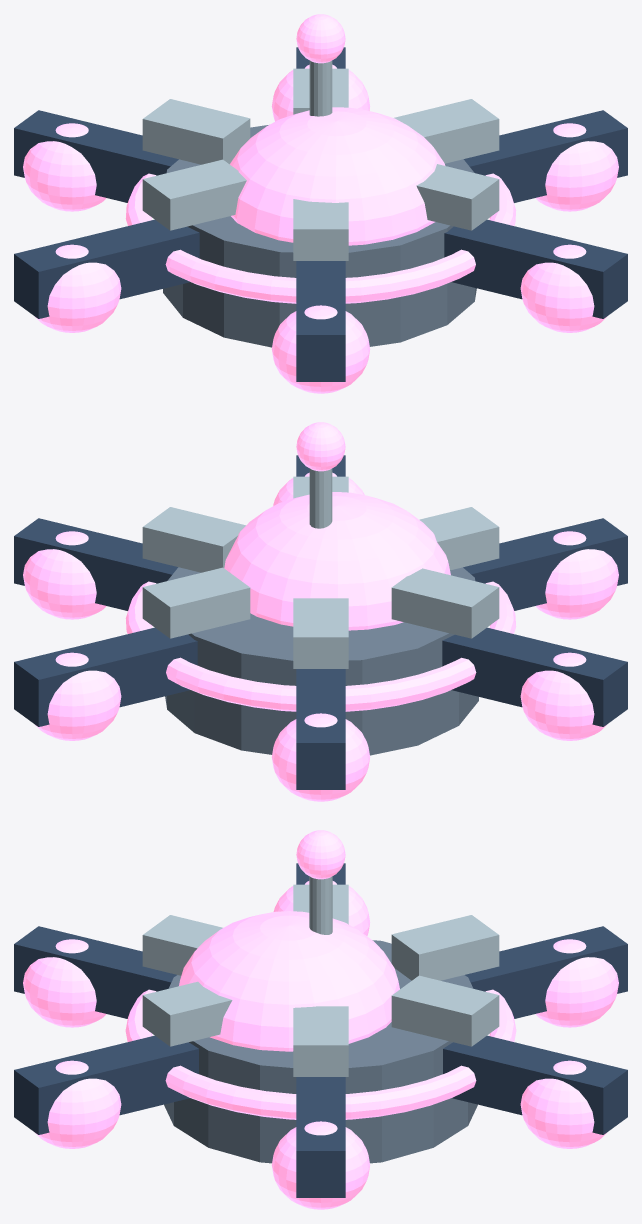
File: drone.glb
3 views of the same model, one above another, from view 1: azimuth 30°, elevation 25°; view 2: azimuth 150°, elevation 25°; view 3: azimuth 270°, elevation 25° (orthographic).
Parts seen in each view (by area): view 1: Sentry iris • target scanner, Sentry Main Reactor, Sentry armoured rotor strut 3, Sentry armoured rotor strut 5, Hazard holo-ring, Sentry armoured rotor strut 0, Sentry armoured rotor strut 2, Sentry armoured rotor strut 4, Sentry armour 2, Sentry armour 3, Sentry thruster 3, Sentry thruster 5 (+10 smaller); view 2: Sentry Main Reactor, Sentry iris • target scanner, Sentry armoured rotor strut 3, Sentry armoured rotor strut 1, Hazard holo-ring, Sentry armoured rotor strut 0, Sentry armoured rotor strut 4, Sentry armoured rotor strut 2, Sentry armour 1, Sentry armour 3, Sentry armour 0, Sentry thruster 1 (+9 smaller); view 3: Sentry iris • target scanner, Sentry Main Reactor, Sentry armoured rotor strut 1, Sentry armoured rotor strut 5, Hazard holo-ring, Sentry armoured rotor strut 2, Sentry armoured rotor strut 4, Sentry armoured rotor strut 0, Sentry armour 1, Sentry armour 2, Sentry thruster 1, Sentry thruster 5 (+10 smaller).
Part boxes in pixels (<box>): Sentry iris • target scanner: <box>230,107,445,245</box>; Sentry Main Reactor: <box>163,125,476,347</box>; Sentry armoured rotor strut 3: <box>14,219,199,318</box>; Sentry armoured rotor strut 5: <box>444,219,627,318</box>; Hazard holo-ring: <box>125,173,516,303</box>; Sentry armoured rotor strut 0: <box>463,110,627,202</box>; Sentry armoured rotor strut 2: <box>14,110,178,202</box>; Sentry armoured rotor strut 4: <box>296,261,345,381</box>; Sentry armour 2: <box>142,99,250,164</box>; Sentry armour 3: <box>142,159,246,230</box>; Sentry thruster 3: <box>35,244,121,332</box>; Sentry thruster 5: <box>520,244,606,332</box>; Sentry Main Reactor: <box>165,567,478,755</box>; Sentry iris • target scanner: <box>224,492,450,630</box>; Sentry armoured rotor strut 3: <box>442,627,627,726</box>; Sentry armoured rotor strut 1: <box>14,627,197,726</box>; Hazard holo-ring: <box>125,581,516,711</box>; Sentry armoured rotor strut 0: <box>14,518,178,610</box>; Sentry armoured rotor strut 4: <box>463,518,627,610</box>; Sentry armoured rotor strut 2: <box>296,669,345,789</box>; Sentry armour 1: <box>142,567,250,638</box>; Sentry armour 3: <box>391,568,499,638</box>; Sentry armour 0: <box>142,507,245,572</box>; Sentry thruster 1: <box>35,652,121,740</box>; Sentry iris • target scanner: <box>179,911,399,1051</box>; Sentry Main Reactor: <box>164,940,477,1163</box>; Sentry armoured rotor strut 1: <box>443,1035,627,1134</box>; Sentry armoured rotor strut 5: <box>14,1035,198,1134</box>; Hazard holo-ring: <box>125,989,516,1119</box>; Sentry armoured rotor strut 2: <box>465,926,627,1018</box>; Sentry armoured rotor strut 4: <box>14,926,176,1018</box>; Sentry armoured rotor strut 0: <box>296,1077,345,1197</box>; Sentry armour 1: <box>391,975,499,1046</box>; Sentry armour 2: <box>391,915,499,980</box>; Sentry thruster 1: <box>520,1060,606,1148</box>; Sentry thruster 5: <box>35,1060,121,1148</box>.
Bounding box in the file's own units: 2.35 × 1.02 × 2.12.
